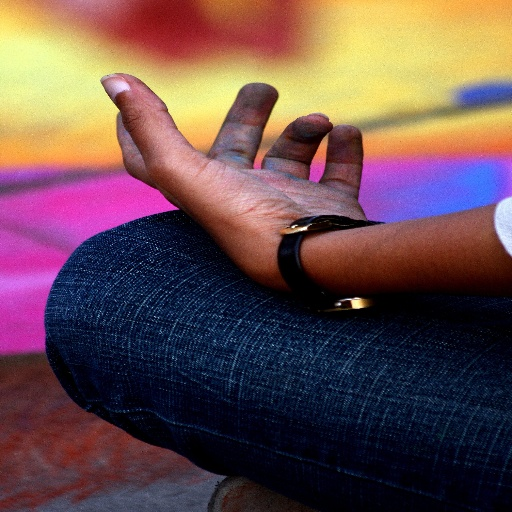hand: (98, 76, 361, 254)
